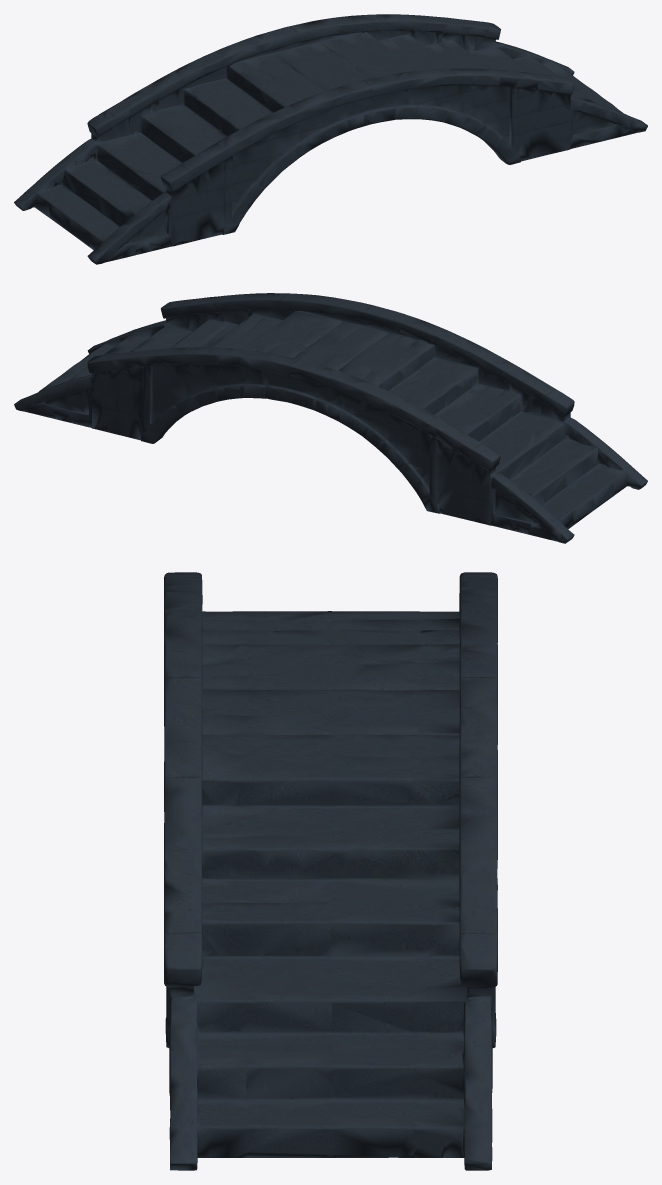
The model's file is witch-bridge.glb.
3 renders of one model, top to bottom at view 1: azimuth 30°, elevation 25°; view 2: azimuth 150°, elevation 25°; view 3: azimuth 270°, elevation 25°, orthographic. The views are drawn at different scales.
Size of the model in its own units: 1.9 by 0.368 by 0.4953.
1 material, 1 textured.
